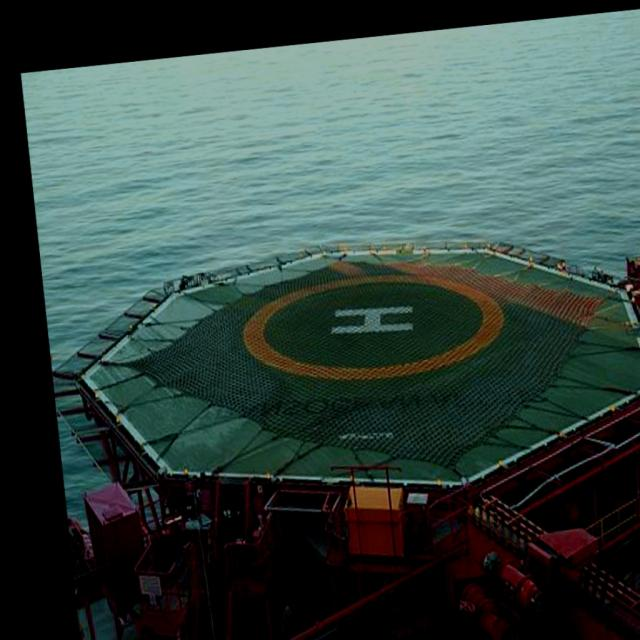helipad: (237, 267, 507, 385)
